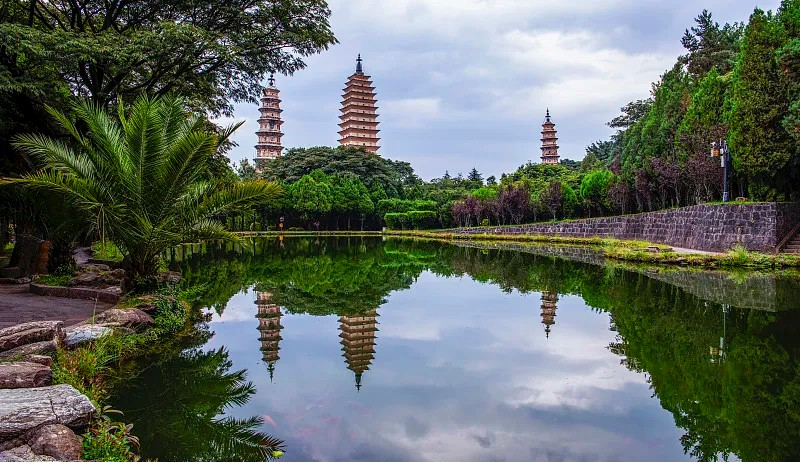ThreePagoda: (336, 52, 381, 154)
